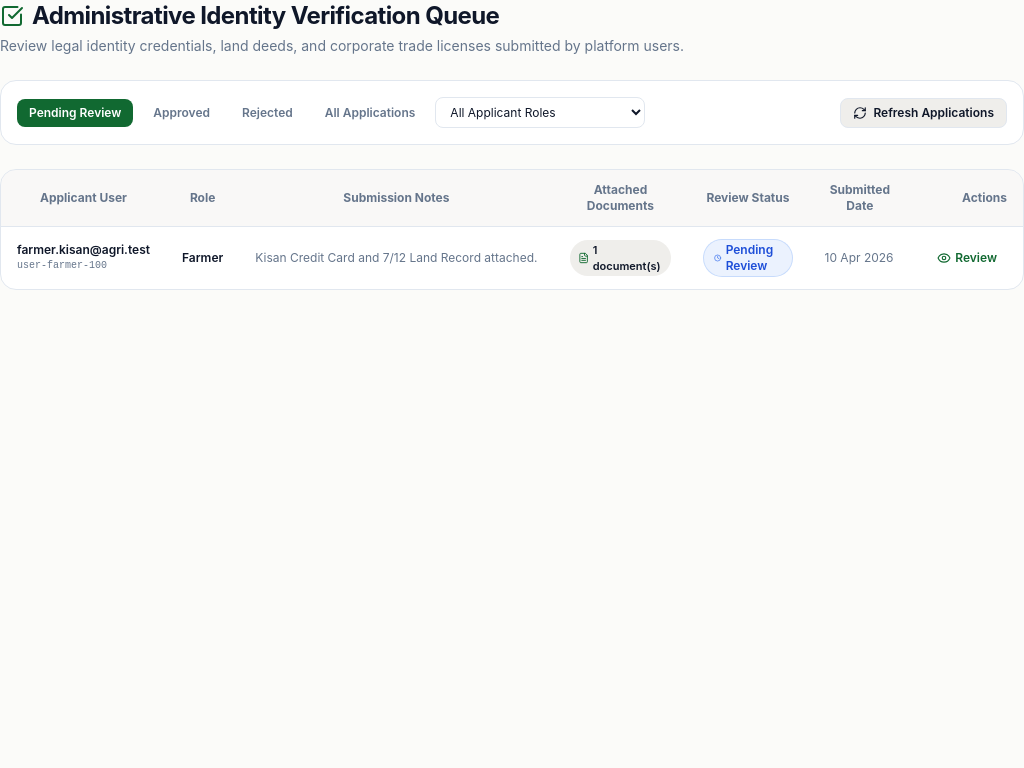
Scenario: AdminVerificationQueuePage › rejects verification application with mandatory reason
Later steps or results of the test are not shown.
Click the button with aria-label "review verification application" at (967, 258), box [927,246,1007,270]
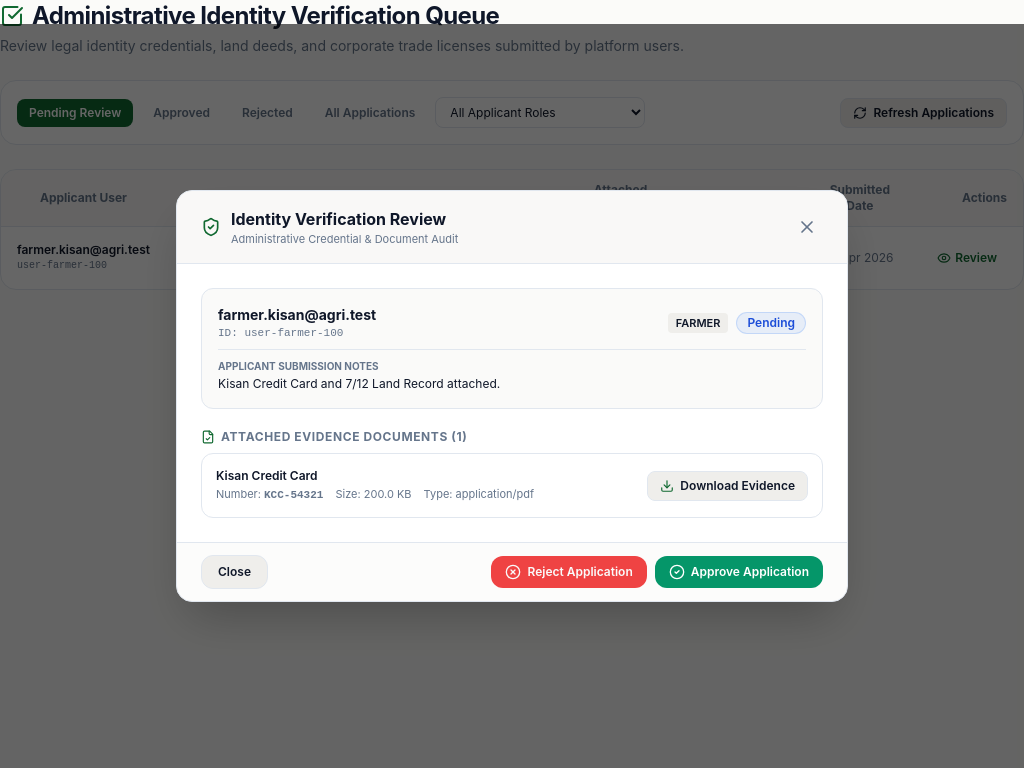
Now the button "Reject Application" is shown
Click the button "Reject Application" at (569, 572), box [492,556,647,588]
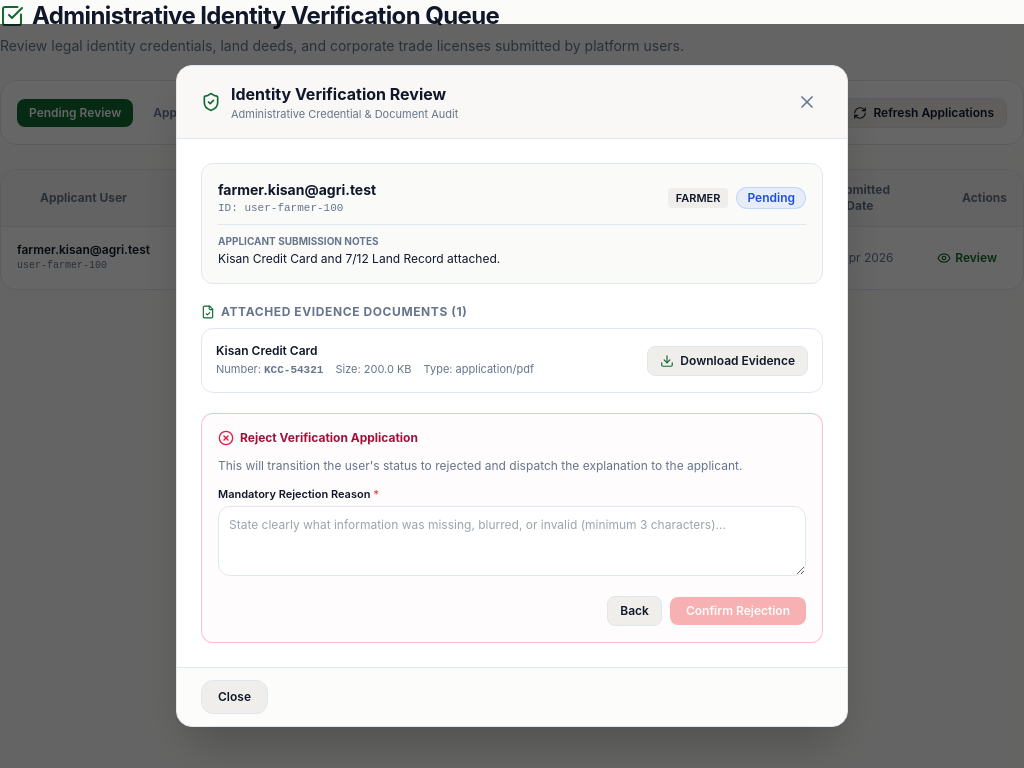
Now the heading "Reject Verification Application" is shown, box [218,430,418,446]
